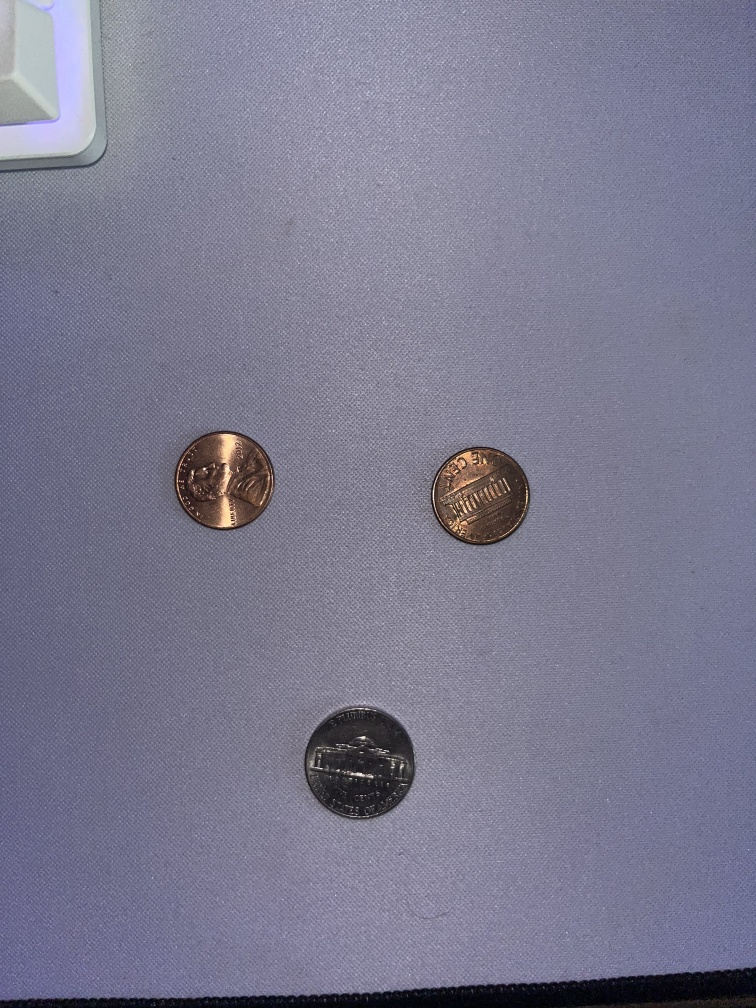nickel: (294, 700, 424, 832)
penny: (168, 427, 283, 536), (421, 441, 534, 551)
